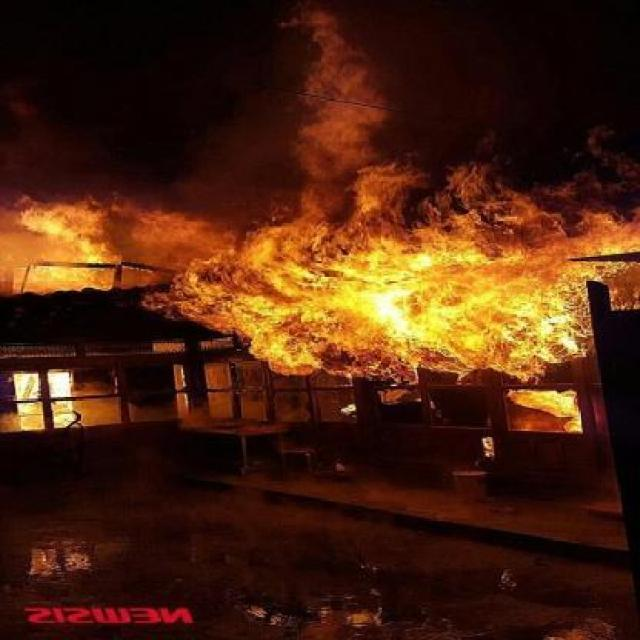Fire: (116, 144, 634, 466)
